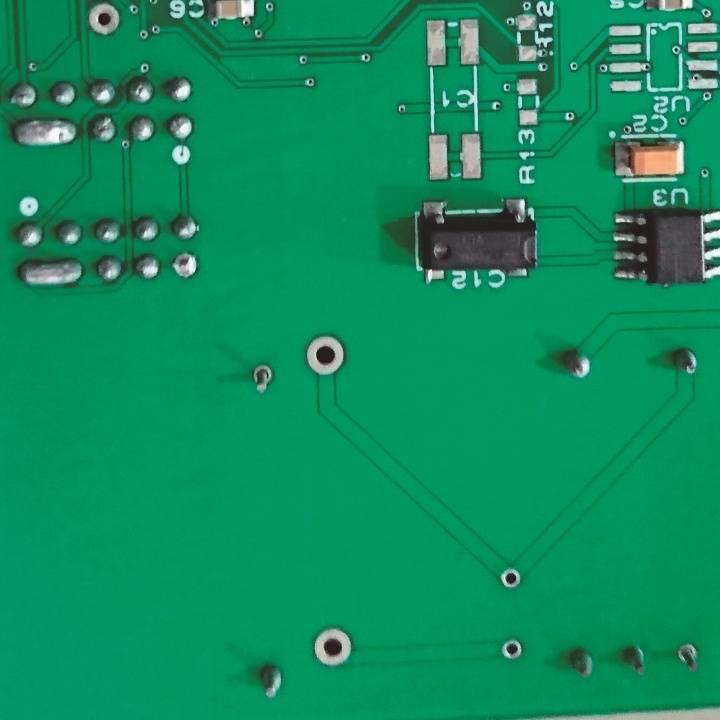F: (302, 334, 348, 380), (310, 626, 357, 671), (86, 1, 124, 38), (247, 363, 278, 398), (674, 638, 702, 675), (171, 250, 200, 283), (499, 563, 524, 597), (504, 640, 525, 665)
P: (11, 115, 83, 150), (15, 258, 89, 291)
